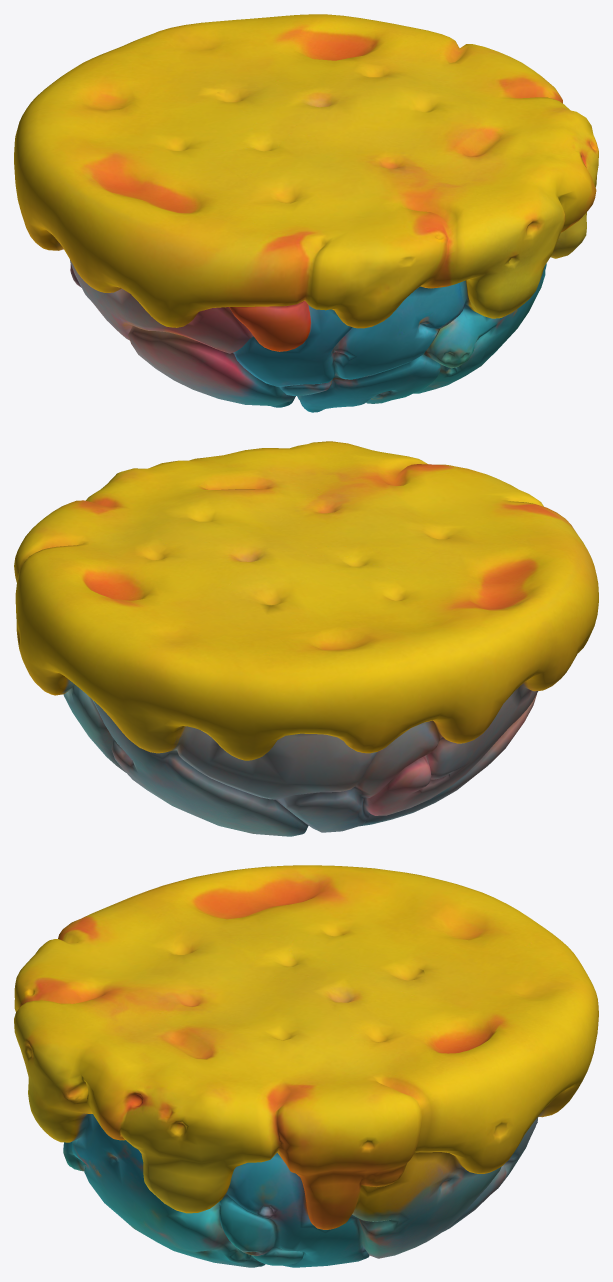
File: dream-saucer-mint.glb
3 views of the same model, one above another, from view 1: azimuth 30°, elevation 25°; view 2: azimuth 150°, elevation 25°; view 3: azimuth 270°, elevation 25° (orthographic).
Visible parts, largest first — view 1: tripo_node_79f74bc9-86fd-4d61-b2ee-01363908e127; view 2: tripo_node_79f74bc9-86fd-4d61-b2ee-01363908e127; view 3: tripo_node_79f74bc9-86fd-4d61-b2ee-01363908e127.
Part boxes in pixels (x1,y1,x2,y2): tripo_node_79f74bc9-86fd-4d61-b2ee-01363908e127: (14,14,598,412); tripo_node_79f74bc9-86fd-4d61-b2ee-01363908e127: (14,441,598,836); tripo_node_79f74bc9-86fd-4d61-b2ee-01363908e127: (14,865,598,1267).
Size of the model in its own units: 0.9995 by 0.5005 by 0.9995.
1 material, 1 textured.
